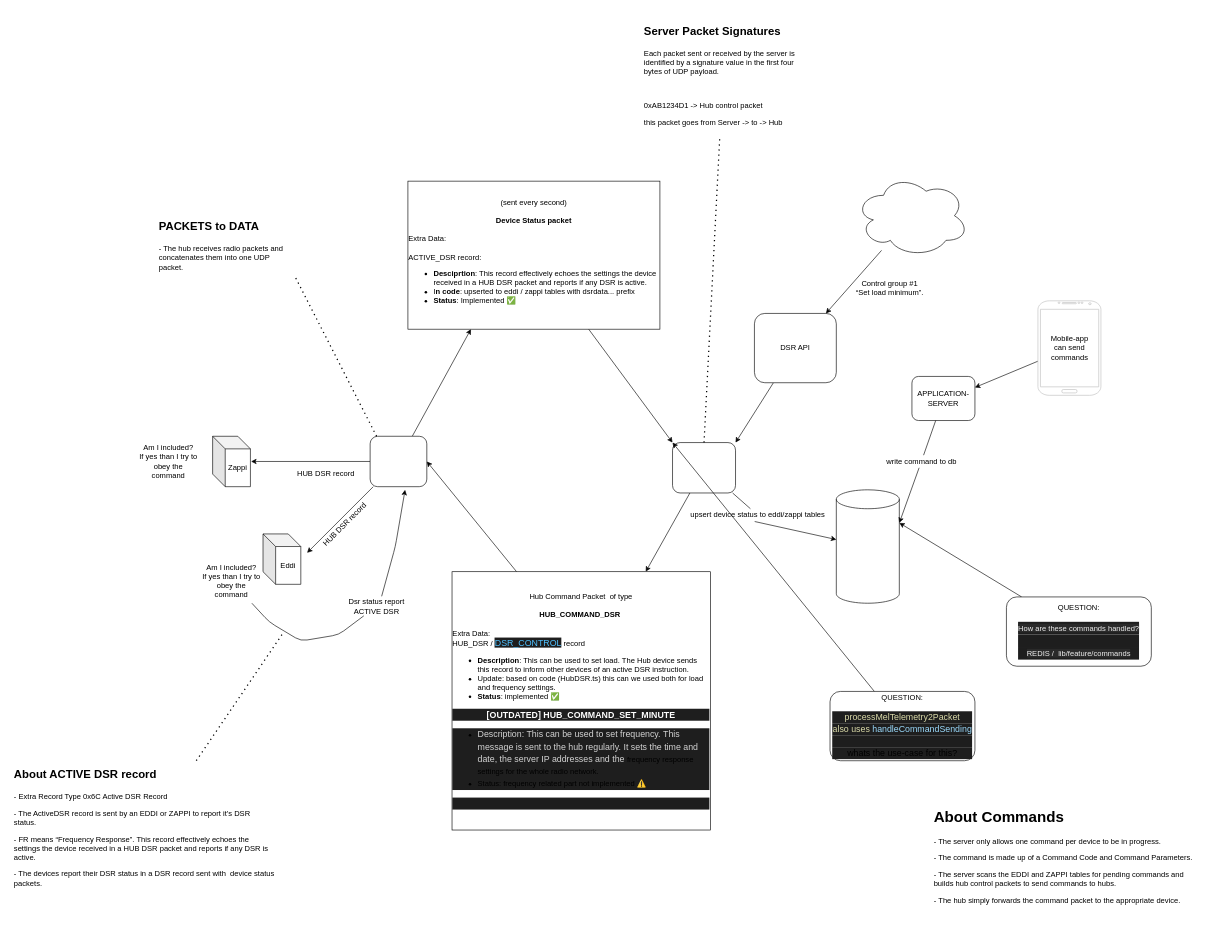
The diagram is 1222 pixels wide and 948 high, and some of its shapes have lost their labels. The shapes that lost their labels are listed below. From the top down, each one's centre as x and y in pixels, then its label:
pixel 912 215: Aggregator
pixel 398 461: HUB
pixel 704 467: HUB-SERVER
pixel 867 546: Main DB zappi / eddi command
